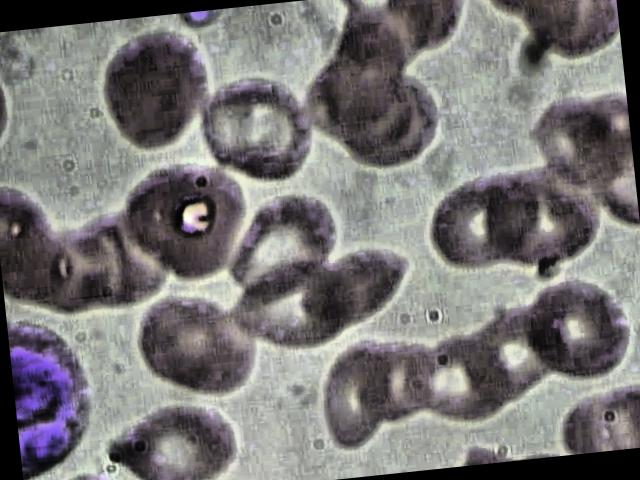RBC: (110, 151, 252, 291), (84, 29, 226, 159), (126, 282, 268, 408), (196, 63, 330, 190), (516, 262, 640, 389), (291, 232, 414, 338), (423, 164, 546, 269), (468, 294, 584, 398), (410, 320, 510, 424), (116, 401, 242, 480), (306, 338, 396, 444), (354, 330, 438, 430)
WBC: (8, 316, 104, 480)
